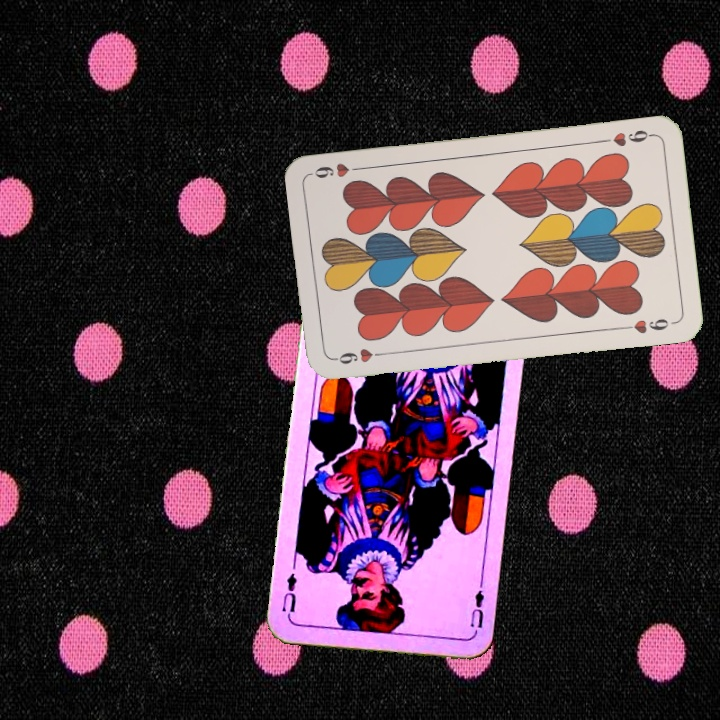EU: (466, 579, 486, 639)
H9: (597, 125, 656, 149), (330, 344, 389, 367)
